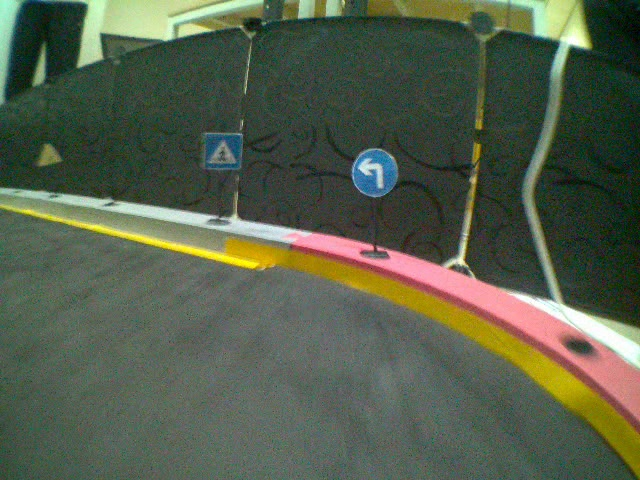crossing: (202, 132, 242, 171)
turn: (349, 147, 399, 200)
